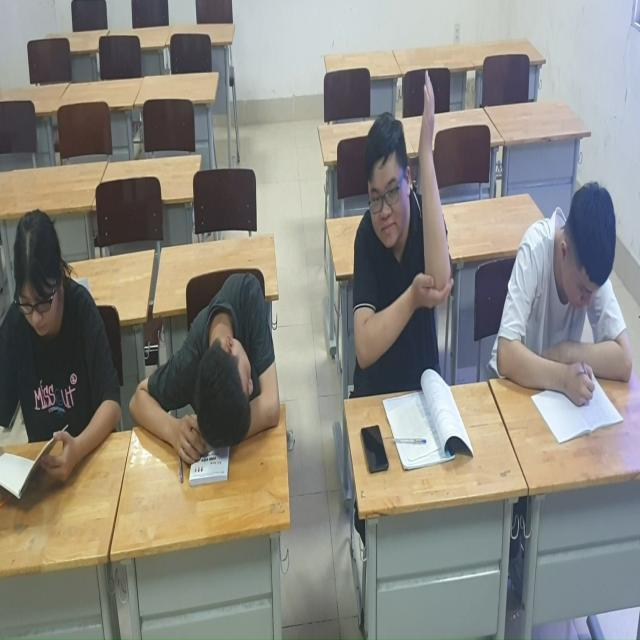sleep: (133, 272, 283, 462)
study: (0, 205, 122, 490), (353, 73, 453, 388), (497, 175, 633, 398)
